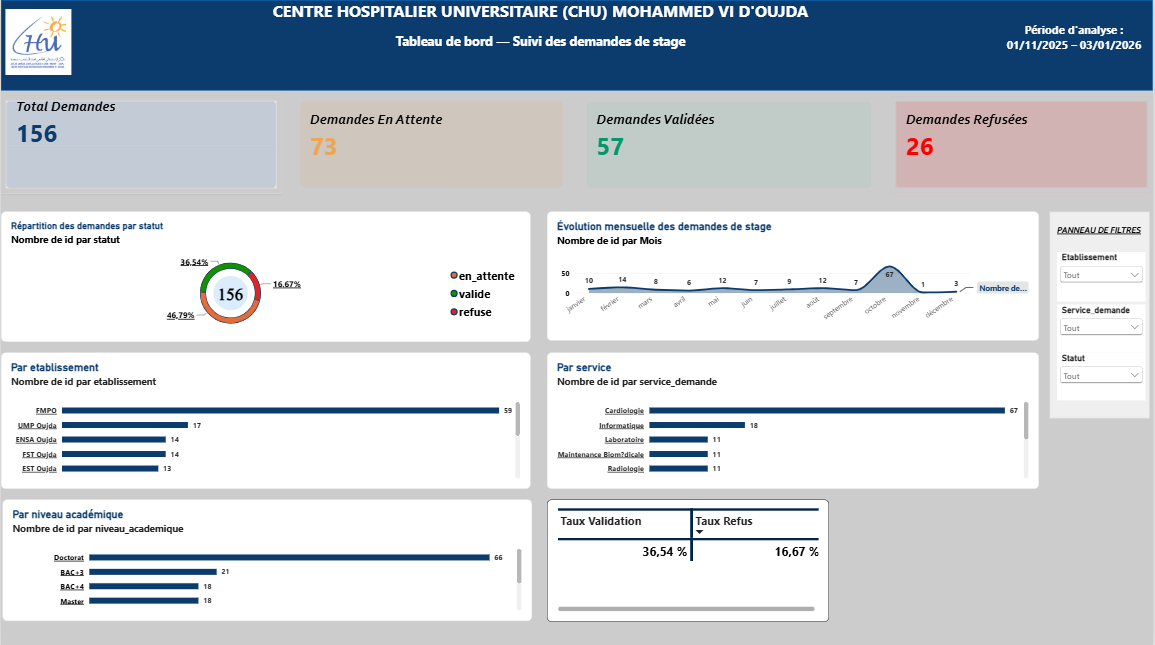

The page's visual inventory and layout, read from the dashboard file:
{"tool":"powerbi","page":{"name":"Page 1","canvas":[1920,1080],"ordinal":0},"visuals":[{"type":"shape","box":[1747.5,352.5,167.5,345],"z":0},{"type":"cardVisual","fields":{"Data":["Demandes_Stage_CHU.Total Demandes"]},"box":[0,160,467.5,162.5],"z":1000},{"type":"cardVisual","fields":{"Data":["Demandes_Stage_CHU.Demandes En Attente"]},"box":[490,160,455,162.5],"z":2000},{"type":"cardVisual","fields":{"Data":["Demandes_Stage_CHU.Demandes Refusées"]},"box":[1482.5,160,437.5,162.5],"z":3000},{"type":"cardVisual","fields":{"Data":["Demandes_Stage_CHU.Demandes Validées"]},"box":[967.5,160,492.5,162.5],"z":4000},{"type":"tableEx","fields":{"Values":["Demandes_Stage_CHU.Taux Validation","Demandes_Stage_CHU.Taux Refus"]},"box":[910,832,470,204],"z":5000},{"type":"donutChart","title":"Répartition des demandes par statut","fields":{"Category":["Demandes_Stage_CHU.statut"],"Y":["CountNonNull(Demandes_Stage_CHU.id)"]},"box":[0,352.5,882.5,217.5],"z":6000},{"type":"clusteredBarChart","title":"Par etablissement","fields":{"Category":["Demandes_Stage_CHU.etablissement"],"Y":["CountNonNull(Demandes_Stage_CHU.id)"]},"box":[0,587.5,882.5,227.5],"z":7000},{"type":"clusteredBarChart","title":"Par service","fields":{"Category":["Demandes_Stage_CHU.service_demande"],"Y":["CountNonNull(Demandes_Stage_CHU.id)"]},"box":[910,587.5,820,227.5],"z":8000},{"type":"clusteredBarChart","title":"Par niveau académique","fields":{"Category":["Demandes_Stage_CHU.niveau_academique"],"Y":["CountNonNull(Demandes_Stage_CHU.id)"]},"box":[2.5,832.5,882.5,202.5],"z":9000},{"type":"areaChart","title":"Évolution mensuelle des demandes de stage","fields":{"Category":["Demandes_Stage_CHU.date_demande.Variation.Hiérarchie de dates.Mois"],"Y":["CountNonNull(Demandes_Stage_CHU.id)"]},"box":[910,352.5,820,215],"z":10000},{"type":"slicer","title":"etablissement","fields":{"Values":["Demandes_Stage_CHU.etablissement"]},"box":[1760,420,147.5,82.5],"z":11000},{"type":"slicer","fields":{"Values":["Demandes_Stage_CHU.statut"]},"box":[1760,587.5,147.5,80],"z":12000},{"type":"slicer","fields":{"Values":["Demandes_Stage_CHU.service_demande"]},"box":[1760,507.5,147.5,80],"z":13000},{"type":"shape","box":[0,0,1919.6,151],"z":14000},{"type":"textbox","box":[2.5,0,1457.5,150],"z":15000},{"type":"textbox","box":[1663.2,0,251.6,151],"z":16000},{"type":"textbox","box":[1760,372.5,150,47.5],"z":17000},{"type":"image","box":[0,15,125,110],"z":18000}]}

Visuals, with their boxes in screenshot pixels (x1, y1, x2, y2), scaled from the page's 1920x1080 canvas onto the 1155x645 screenshot:
shape: region(1051, 211, 1152, 417)
cardVisual - Demandes_Stage_CHU.Total Demandes: region(0, 96, 281, 193)
cardVisual - Demandes_Stage_CHU.Demandes En Attente: region(295, 96, 568, 193)
cardVisual - Demandes_Stage_CHU.Demandes Refusées: region(892, 96, 1154, 193)
cardVisual - Demandes_Stage_CHU.Demandes Validées: region(582, 96, 878, 193)
tableEx - Demandes_Stage_CHU.Taux Validation x Demandes_Stage_CHU.Taux Refus: region(547, 497, 830, 619)
"Répartition des demandes par statut" donutChart: region(0, 211, 531, 340)
"Par etablissement" clusteredBarChart: region(0, 351, 531, 487)
"Par service" clusteredBarChart: region(547, 351, 1041, 487)
"Par niveau académique" clusteredBarChart: region(2, 497, 532, 618)
"Évolution mensuelle des demandes de stage" areaChart: region(547, 211, 1041, 339)
"etablissement" slicer: region(1059, 251, 1147, 300)
slicer - Demandes_Stage_CHU.statut: region(1059, 351, 1147, 399)
slicer - Demandes_Stage_CHU.service_demande: region(1059, 303, 1147, 351)
shape: region(0, 0, 1154, 90)
textbox: region(2, 0, 878, 90)
textbox: region(1001, 0, 1152, 90)
textbox: region(1059, 222, 1149, 251)
image: region(0, 9, 75, 75)
